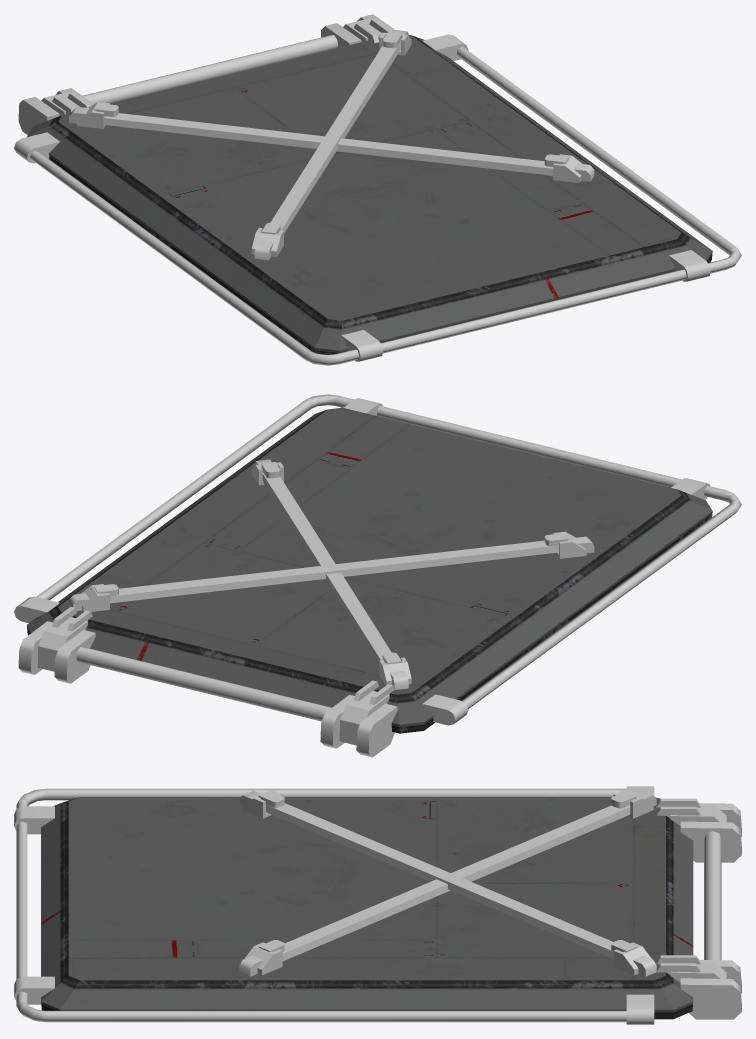
Rendered from Cover_Panel_Frame1_L1.fbx.
3 renders of one model, top to bottom at view 1: azimuth 30°, elevation 25°; view 2: azimuth 150°, elevation 25°; view 3: azimuth 270°, elevation 25°, orthographic. The views are drawn at different scales.
Parts seen in each view (by area): view 1: Panel, Frame; view 2: Panel, Frame; view 3: Panel, Frame.
Boxes of the visible parts, x1,y1,x2,y2 form: Panel: (27, 35, 712, 354); Frame: (14, 14, 741, 365); Panel: (27, 407, 712, 733); Frame: (14, 394, 741, 757); Panel: (41, 797, 693, 1019); Frame: (14, 786, 741, 1024).
Bounding box in the file's own units: 200 × 23.39 × 268.
